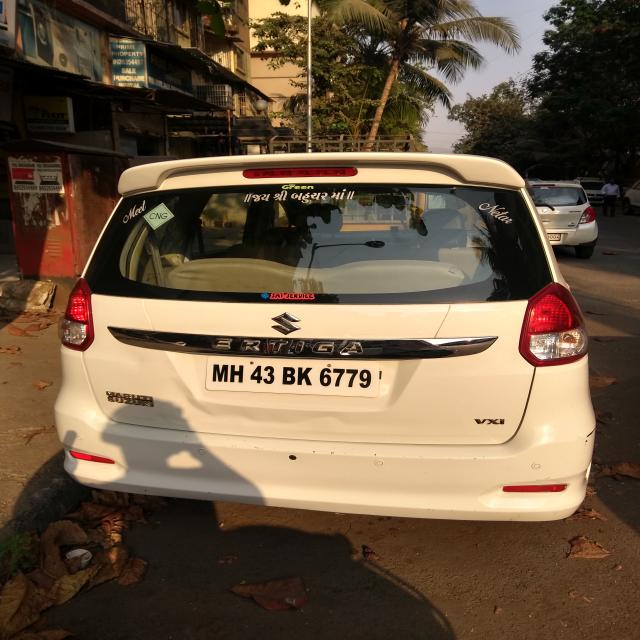Number-Plate: (205, 356, 388, 396)
